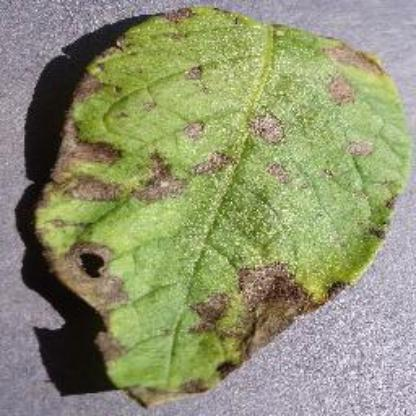Early-Blight: (30, 6, 412, 412)
